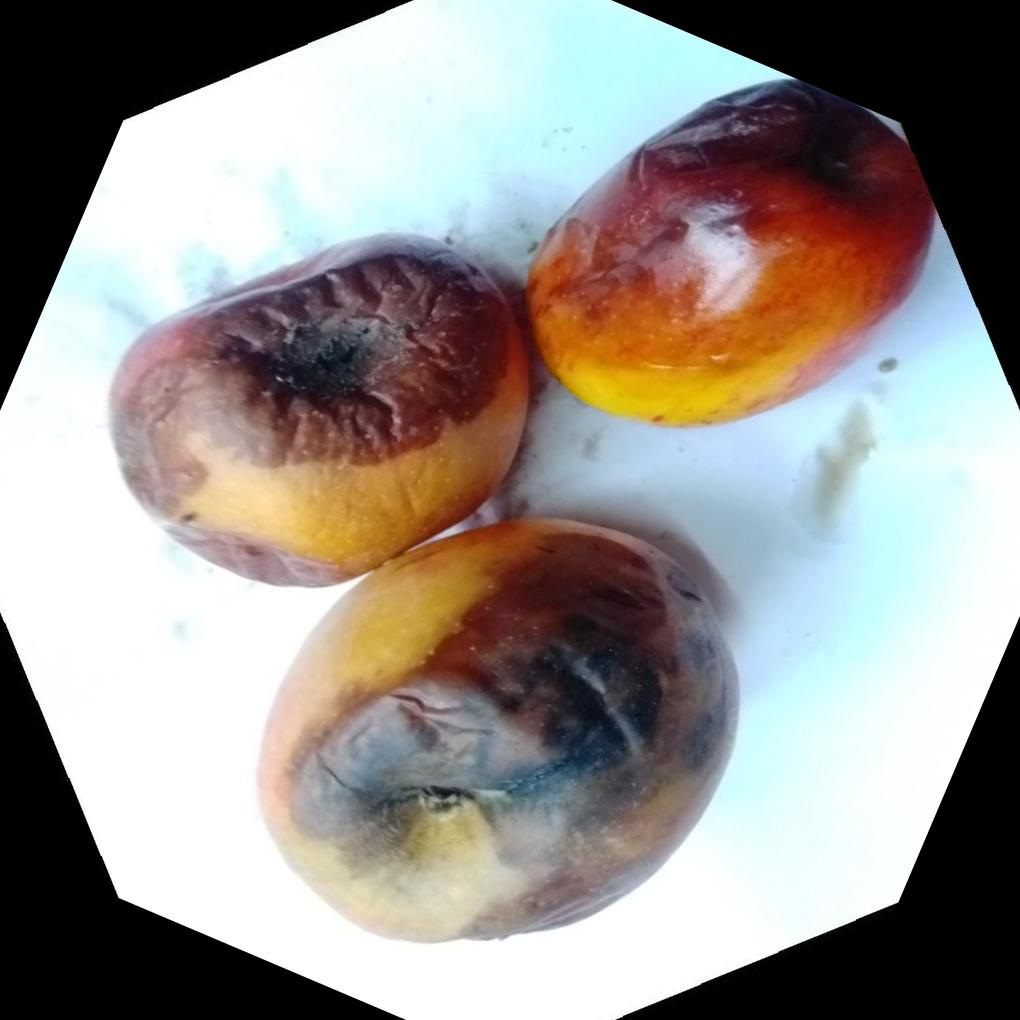FreshOrange: (108, 75, 937, 940)
